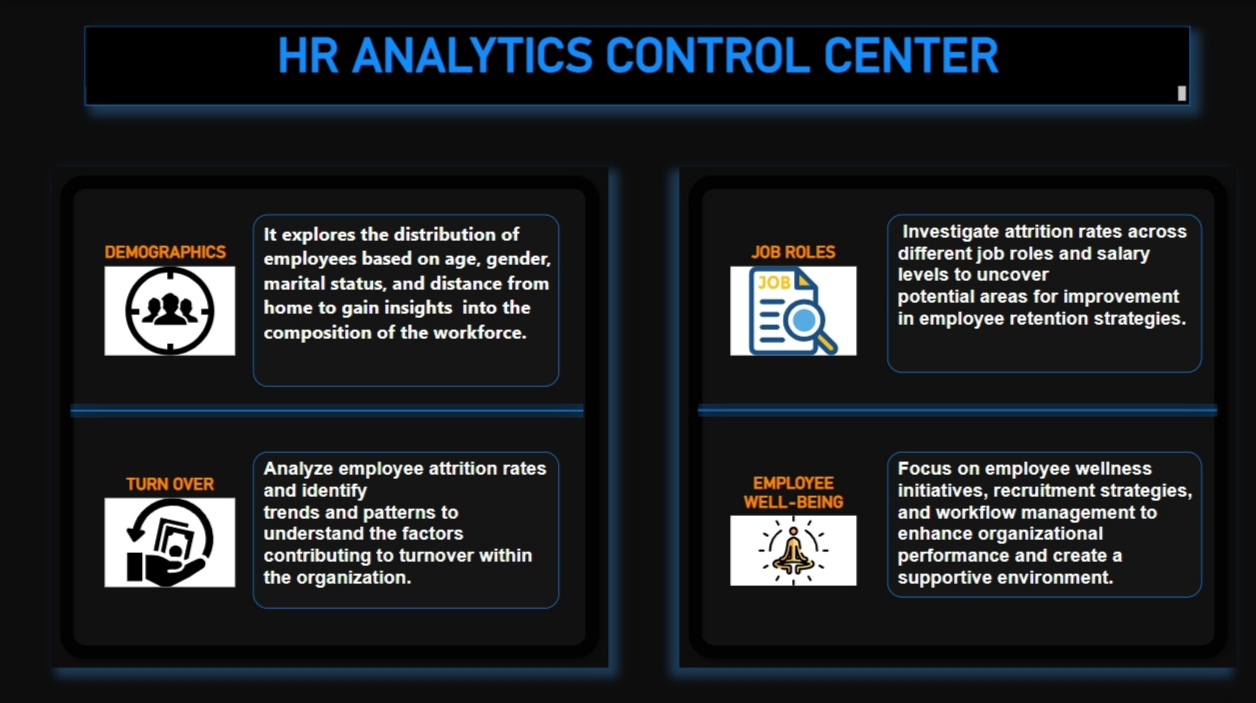

The dashboard page shown, as its layout file describes it:
{"tool":"powerbi","page":{"name":"Page 1","canvas":[1280,720],"ordinal":0},"visuals":[{"type":"textbox","title":"HR ANALYTICS CONTROL CENTER","box":[88.9,26.7,1116.7,80],"z":0},{"type":"shape","box":[688.7,168.8,562.8,506.5],"z":1000},{"type":"shape","title":"Demographics","box":[54.8,168.8,562.8,506.5],"z":2000},{"type":"textbox","box":[258.3,216.9,309.7,174.1],"z":3000},{"type":"textbox","box":[258.3,456.6,309.7,158.4],"z":4000},{"type":"textbox","box":[899,216.9,318.2,159.8],"z":5000},{"type":"textbox","box":[899,456.6,318.2,147],"z":6000},{"type":"actionButton","title":"DEMOGRAPHICS","box":[108.1,245.8,131.8,114],"z":7000},{"type":"actionButton","title":"JOB ROLES","box":[740.5,245.8,127.4,114],"z":8000},{"type":"actionButton","title":" TURN OVER","box":[108.1,479.8,131.8,114],"z":9000},{"type":"actionButton","title":"EMPLOYEE WELL-BEING","box":[740.5,478.4,127.4,114],"z":10000},{"type":"shape","box":[707.9,408.8,524.3,13.3],"z":11000},{"type":"shape","box":[74.2,408.1,518,14.3],"z":12000}]}

Visuals, with their boxes in screenshot pixels (x1, y1, x2, y2), scaled from the page's 1280x720 canvas onto the 1256x703 screenshot:
"HR ANALYTICS CONTROL CENTER" textbox: region(87, 26, 1183, 104)
shape: region(676, 165, 1228, 659)
"Demographics" shape: region(54, 165, 606, 659)
textbox: region(253, 212, 557, 382)
textbox: region(253, 446, 557, 600)
textbox: region(882, 212, 1194, 368)
textbox: region(882, 446, 1194, 589)
"DEMOGRAPHICS" actionButton: region(106, 240, 235, 351)
"JOB ROLES" actionButton: region(727, 240, 852, 351)
" TURN OVER" actionButton: region(106, 468, 235, 580)
"EMPLOYEE WELL-BEING" actionButton: region(727, 467, 852, 578)
shape: region(695, 399, 1209, 412)
shape: region(73, 398, 581, 412)
